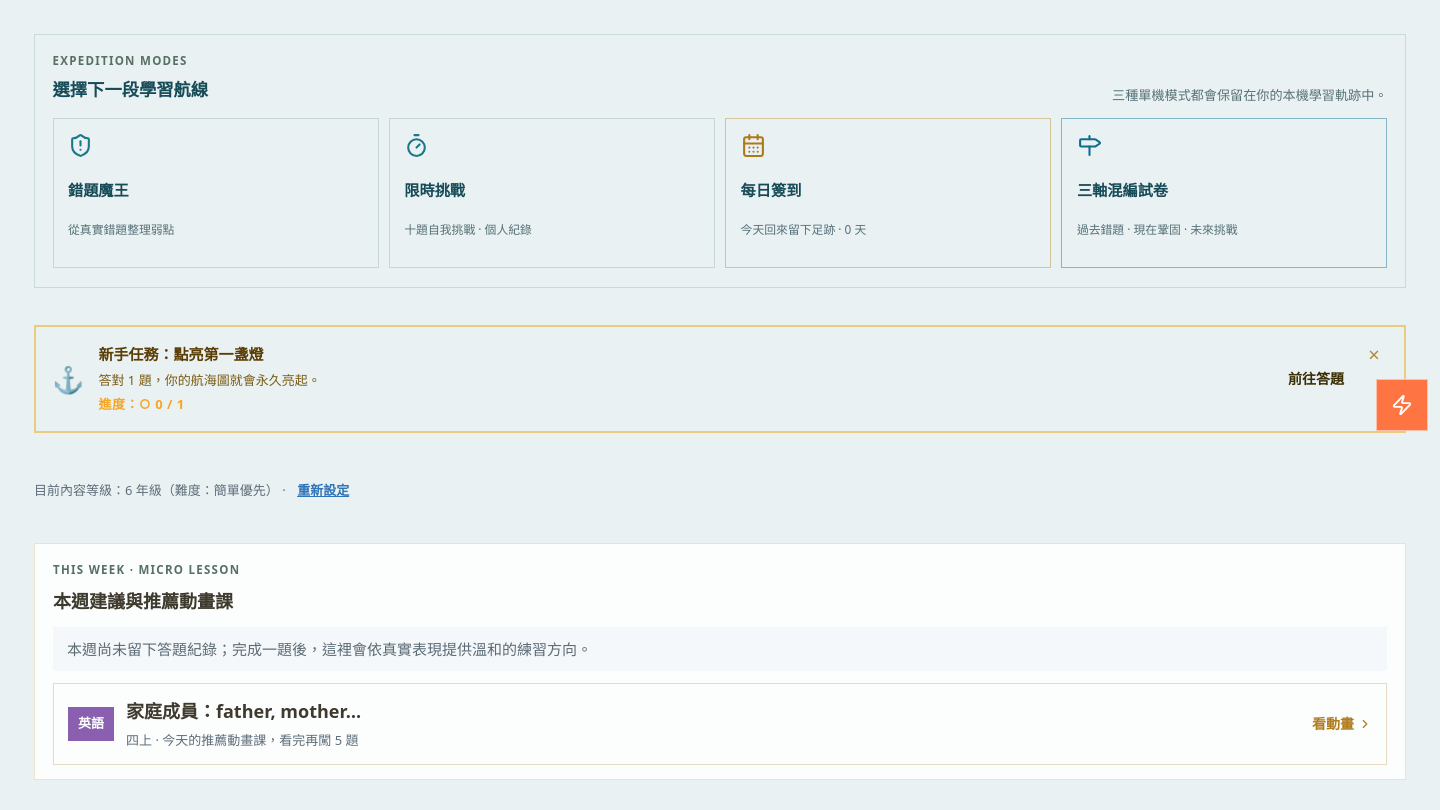
it: 首頁設定流程（內容等級 + 難度偏好） › 點「重新設定」會重新展開流程並回填目前值
The image size is (1440, 810).
Click the button "重新設定".
click(323, 491)  # box [289, 469, 357, 513]
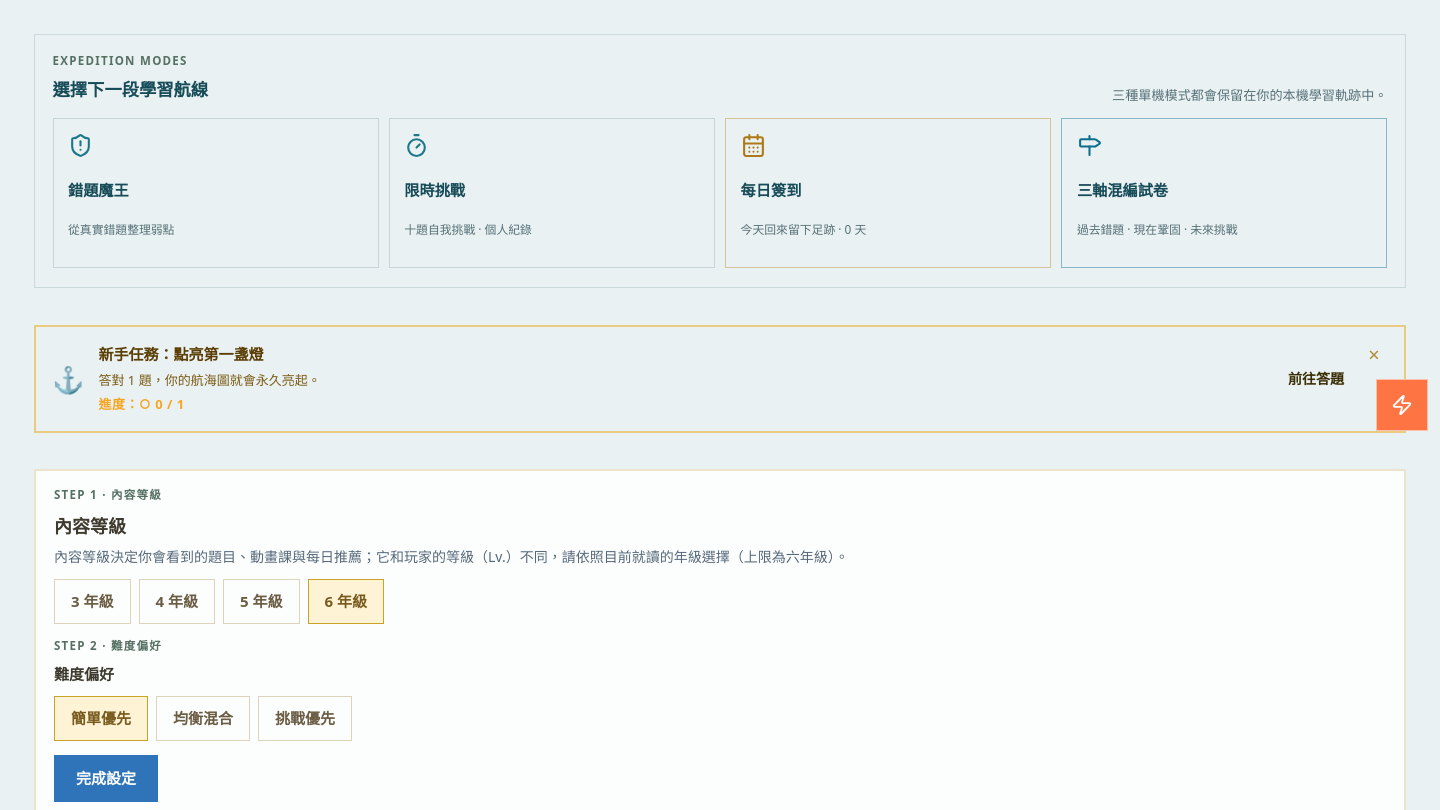
expect the heading "內容等級" is shown: met, box [54, 514, 126, 538]
